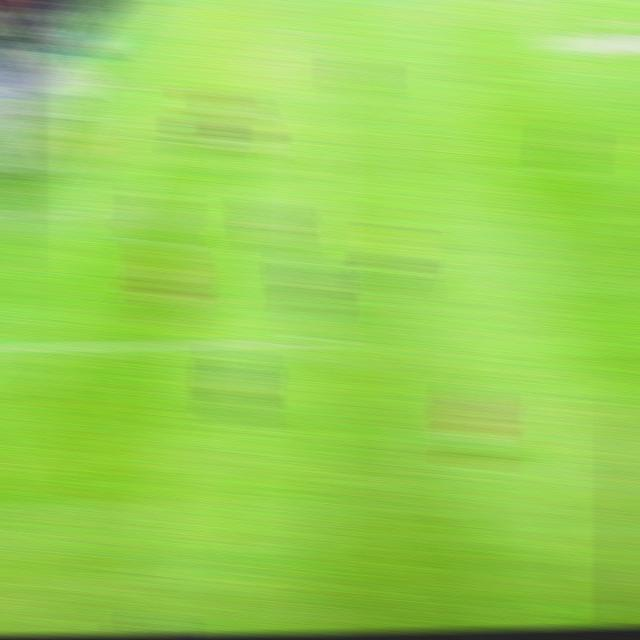bigarea_bottom_inner: (288, 329, 341, 356)
bigarea_top_inner: (302, 26, 334, 39)
bigarea_top_outter: (98, 26, 144, 42)
bottom_arc_area_intersection: (301, 188, 332, 202)
smallarea_bottom_inner: (94, 201, 130, 220)
smallarea_bottom_outter: (0, 199, 27, 222)
smallarea_top_inner: (147, 76, 178, 90)
smallarea_top_outter: (72, 75, 104, 88)
top_arc_area_intersection: (303, 87, 334, 100)
